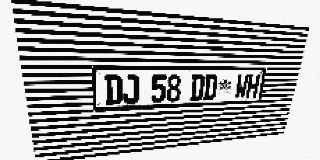5: (151, 75, 167, 103)
8: (166, 75, 182, 102)
D: (104, 75, 122, 105), (189, 75, 205, 101), (203, 75, 218, 100)
H: (245, 74, 260, 98)
J: (122, 75, 139, 104)
W: (234, 74, 249, 99)
